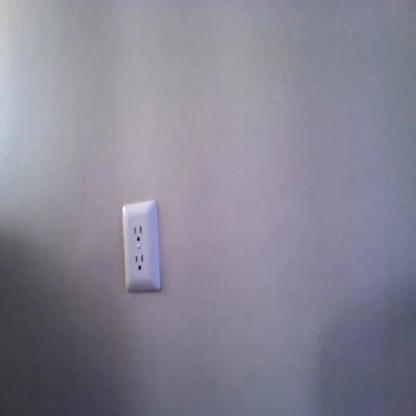OUTLET: (121, 201, 162, 293)
